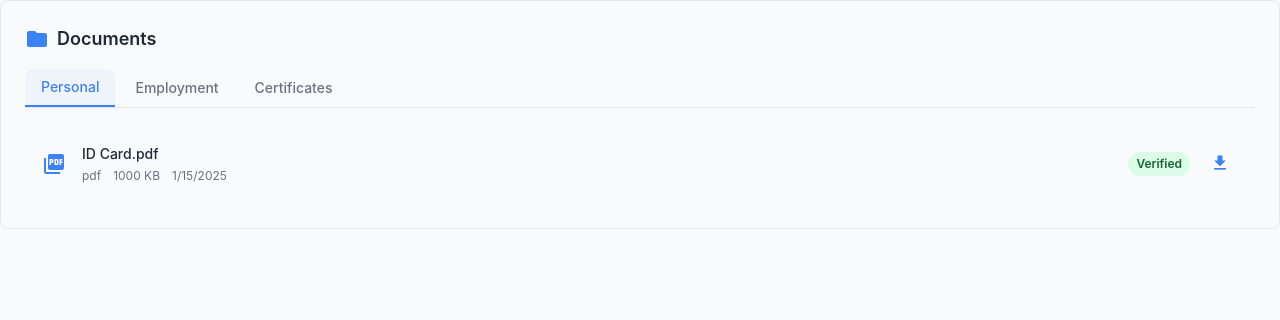
Test: DocumentsSection › displays error when document download fails
Expected: the text "ID Card.pdf" is shown, [82,145,158,162]
// Click download button
Click the button named "Download".
click(1220, 164)  # box [1202,141,1238,187]
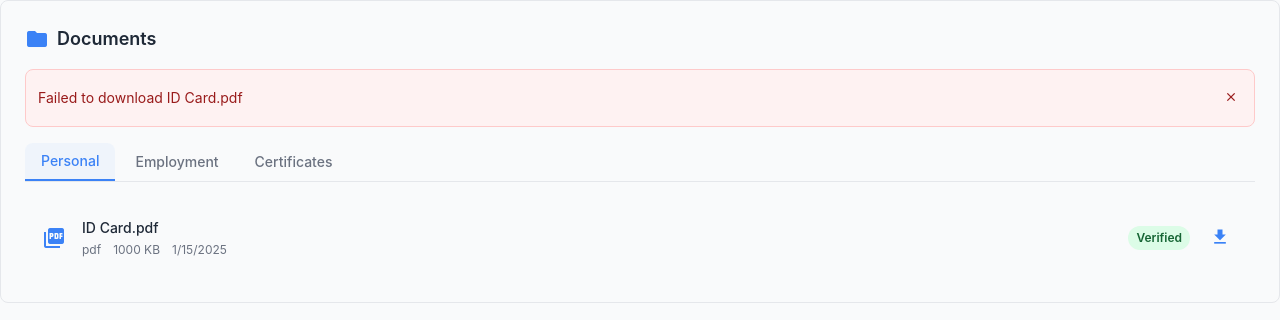
Result: the text "Failed to download ID Card.pdf" is shown at [38,89,243,106]
